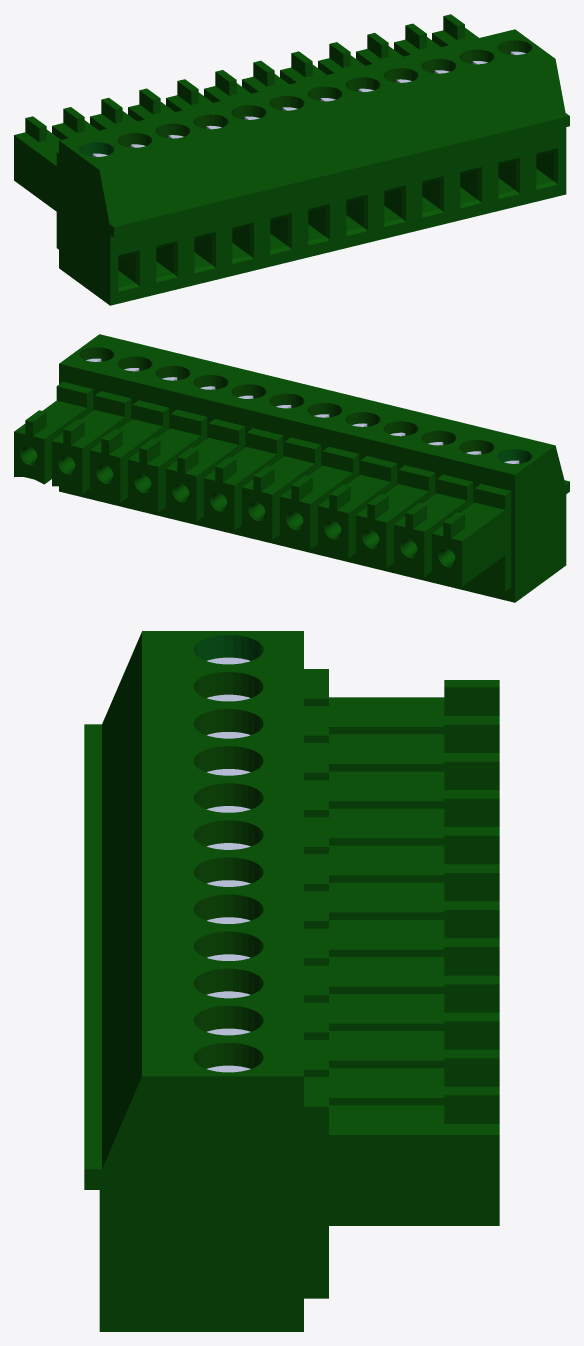
The model's file is OSTTJ1211530.obj.
3 views of the same model, one above another, from view 1: azimuth 30°, elevation 25°; view 2: azimuth 150°, elevation 25°; view 3: azimuth 270°, elevation 25° (orthographic). The views are drawn at different scales.
Visible parts, largest first — view 1: OSTTJ1211530; view 2: OSTTJ1211530; view 3: OSTTJ1211530.
Boxes of the visible parts, x1=… form: OSTTJ1211530: x1=14, y1=14, x2=569, y2=305; OSTTJ1211530: x1=14, y1=334, x2=569, y2=602; OSTTJ1211530: x1=84, y1=631, x2=499, y2=1331.
Size of the model in its own units: 0.0288 by 0.00771 by 0.0113.
